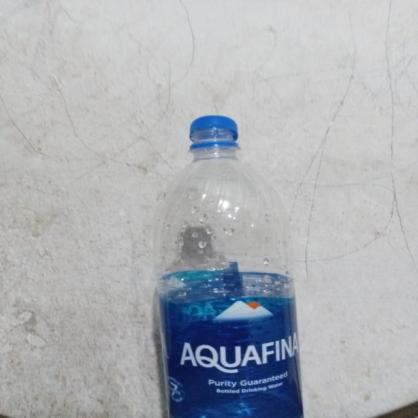bottle: (152, 108, 306, 418)
cap: (182, 112, 248, 154)
label: (154, 294, 302, 418)
